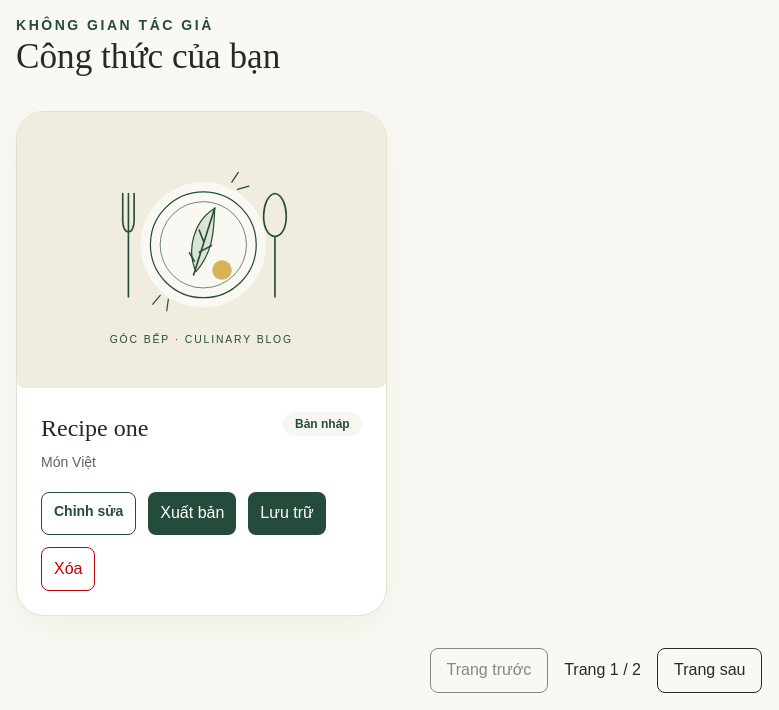
deleting the last item on a later page returns to the previous valid page
The width and height of the screenshot is (779, 710).
Click the button "Trang sau" at (710, 670), box [657,648,762,693]
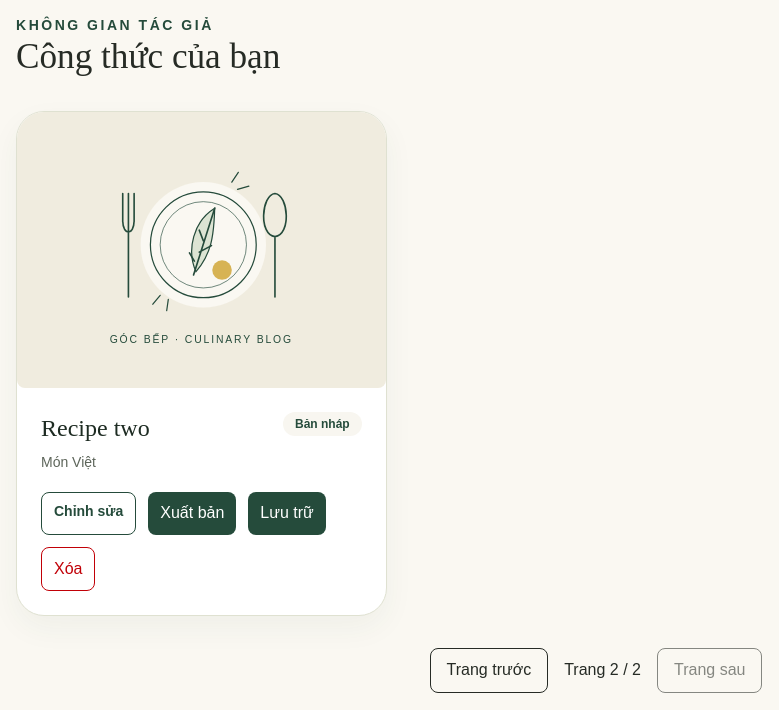
Click the button "Xóa" at (68, 569), box [41,547,96,591]
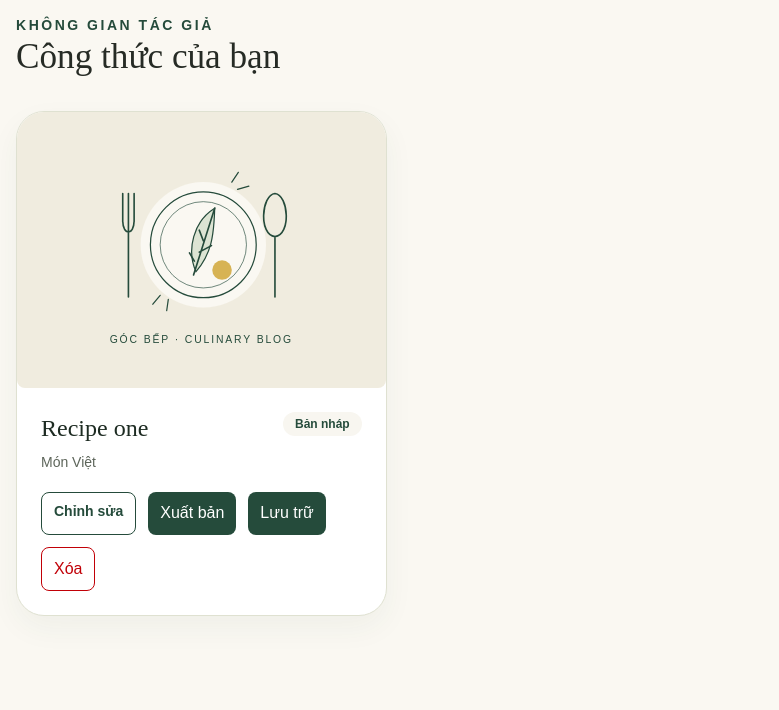
Now the text "Recipe one" is shown, box [41,412,148,444]
